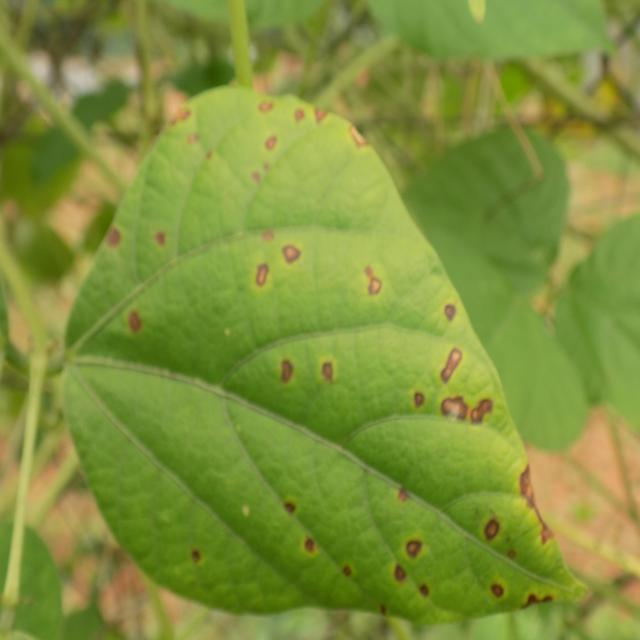Dolicos bean_cercospora leaf spot: (61, 81, 573, 620)
